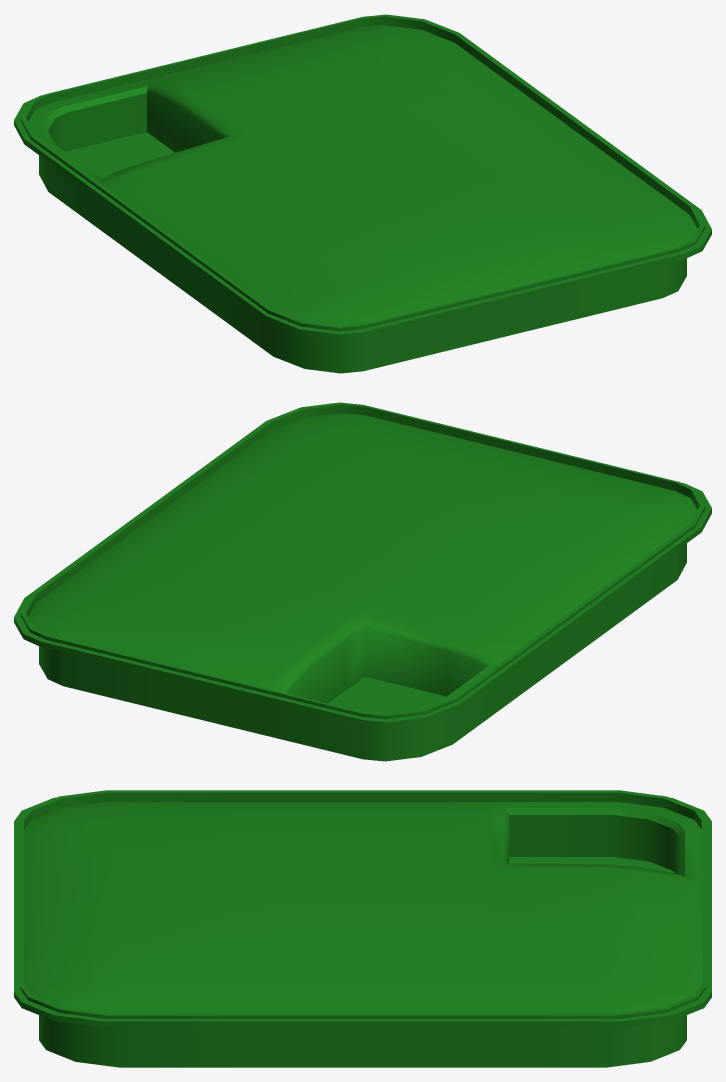
The model's file is GG_SPONGECAKE_CUT.FBX.
3 renders of one model, top to bottom at view 1: azimuth 30°, elevation 25°; view 2: azimuth 150°, elevation 25°; view 3: azimuth 270°, elevation 25°, orthographic. The views are drawn at different scales.
Visible parts, largest first — view 1: Cylinder052; view 2: Cylinder052; view 3: Cylinder052.
Part boxes in pixels (box(x1,y1,x2,y2)): Cylinder052: box(14, 14, 711, 373); Cylinder052: box(14, 402, 711, 761); Cylinder052: box(14, 790, 711, 1067).
Size of the model in its own units: 14.27 by 1.86 by 18.34.
